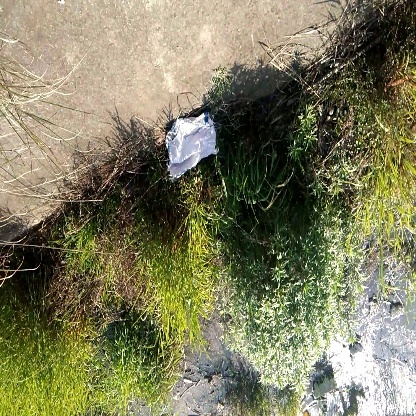plastic-bag: (163, 112, 226, 179)
